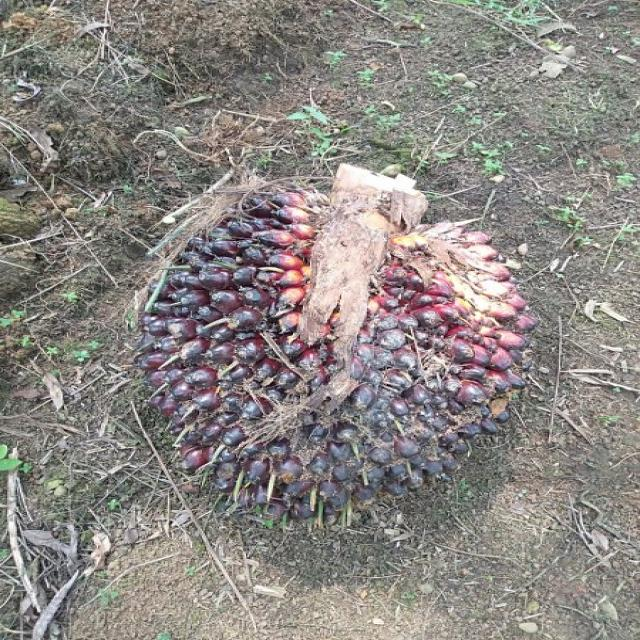fraksi 00: (125, 160, 532, 519)
